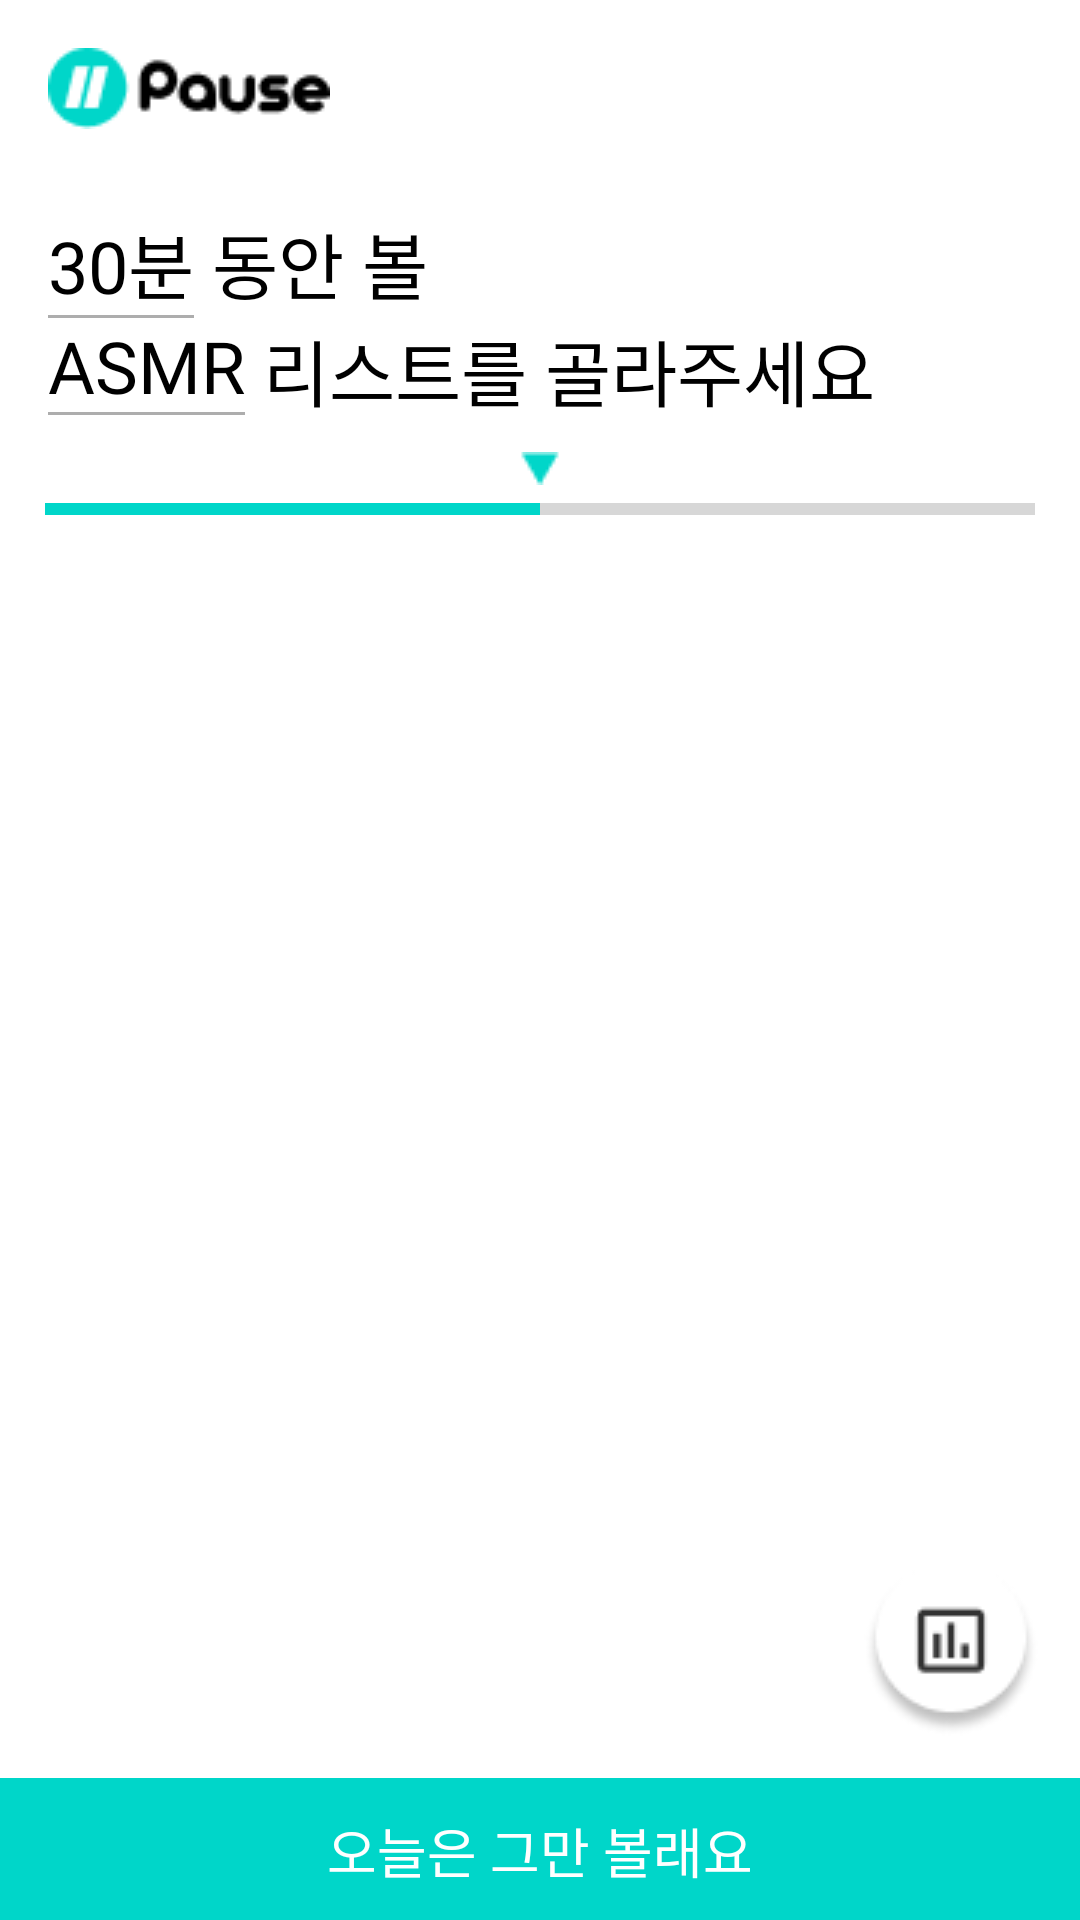

Icon click points for this 1080 x 1920 phone screenshot, format (x=x, y=y):
go record: (x=950, y=1666)
progress point: (x=540, y=468)
